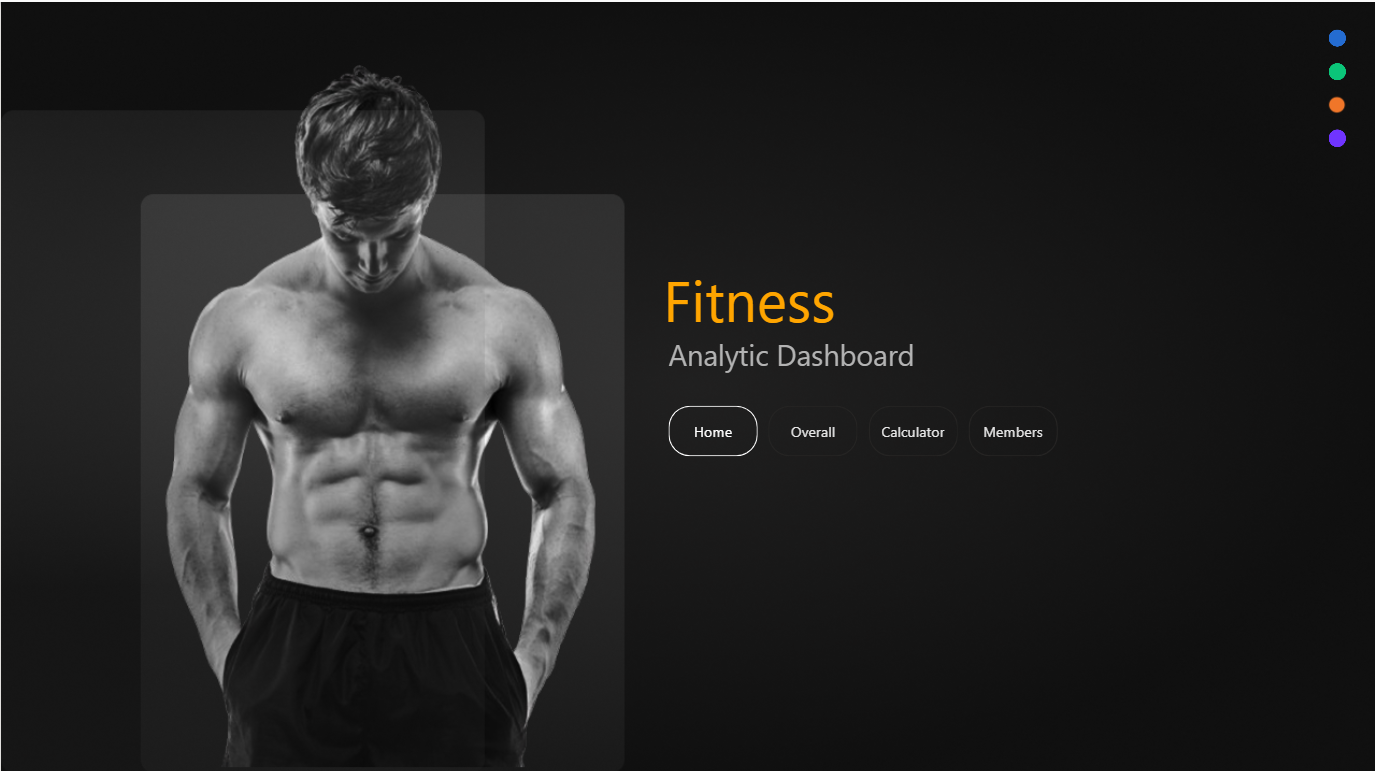

Layout of this report page (visuals, bound fields, positions):
{"tool":"powerbi","page":{"name":"Home","canvas":[1280,720],"ordinal":0},"visuals":[{"type":"shape","box":[610.5,234.9,176.7,70.9],"z":0},{"type":"shape","box":[620.9,305.8,241.9,39.5],"z":1000},{"type":"pageNavigator","box":[620.9,375.6,365.1,47.7],"z":2000},{"type":"advancedSlicerVisual","fields":{"Values":["ColorCodes.Color"],"Label":["Min(ColorCodes.Icon)"]},"box":[1224.4,17.4,37.2,126.7],"z":3000}]}

Visuals, with their boxes in screenshot pixels (x1, y1, x2, y2), scaled from the page's 1280x720 canvas onto the 1375x771 screenshot:
shape: [656, 252, 846, 327]
shape: [667, 327, 927, 370]
pageNavigator: [667, 402, 1059, 453]
advancedSlicerVisual - ColorCodes.Color x Min(ColorCodes.Icon): [1315, 19, 1355, 154]
